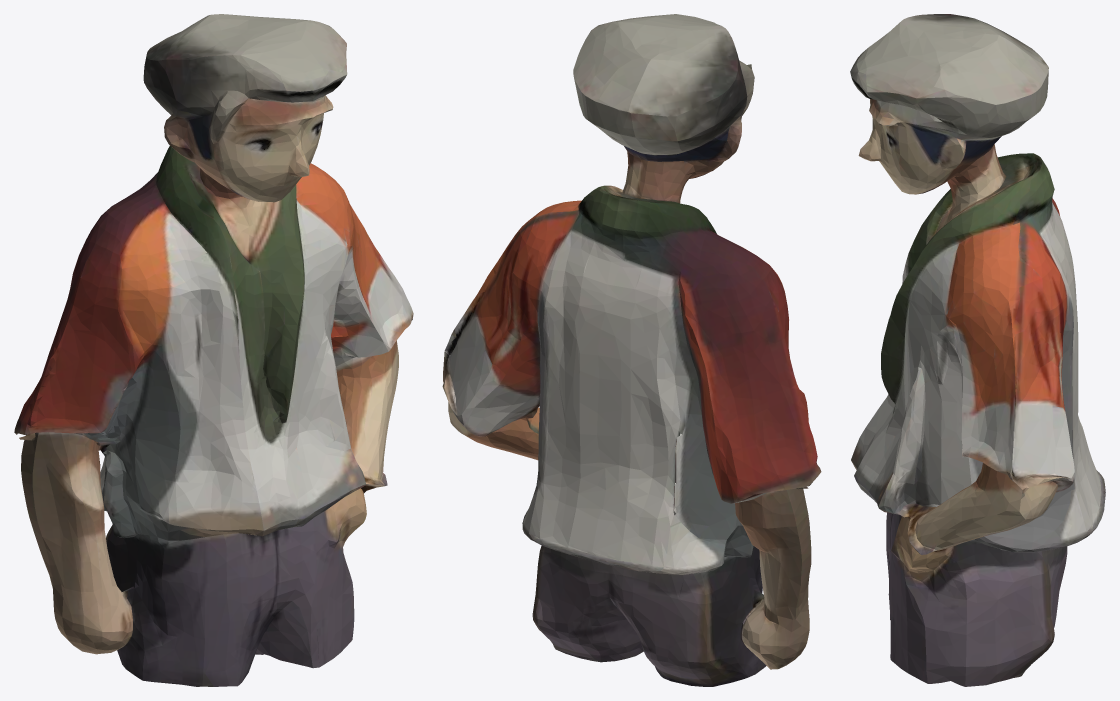
Rendered from anime_modern_commoner.glb.
3 renders of one model, left to right at view 1: azimuth 30°, elevation 25°; view 2: azimuth 150°, elevation 25°; view 3: azimuth 270°, elevation 25°, orthographic. The views are drawn at different scales.
Visible parts, largest first — view 1: geometry_0; view 2: geometry_0; view 3: geometry_0.
Part boxes in pixels (x1,y1,x2,y2): geometry_0: (14,14,413,686); geometry_0: (442,14,821,686); geometry_0: (850,14,1105,686).
Size of the model in its own units: 0.6433 by 0.9923 by 0.3793.
1 material, 1 textured.
